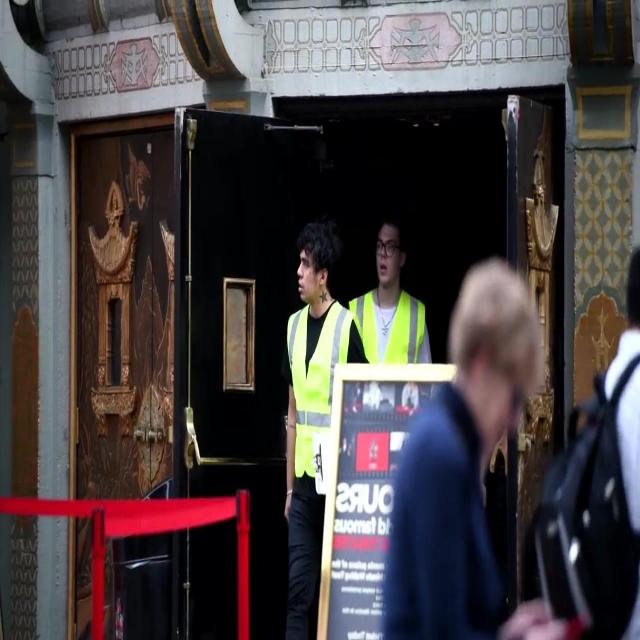Reflective-Jacket: (282, 297, 359, 487), (348, 285, 430, 377)
